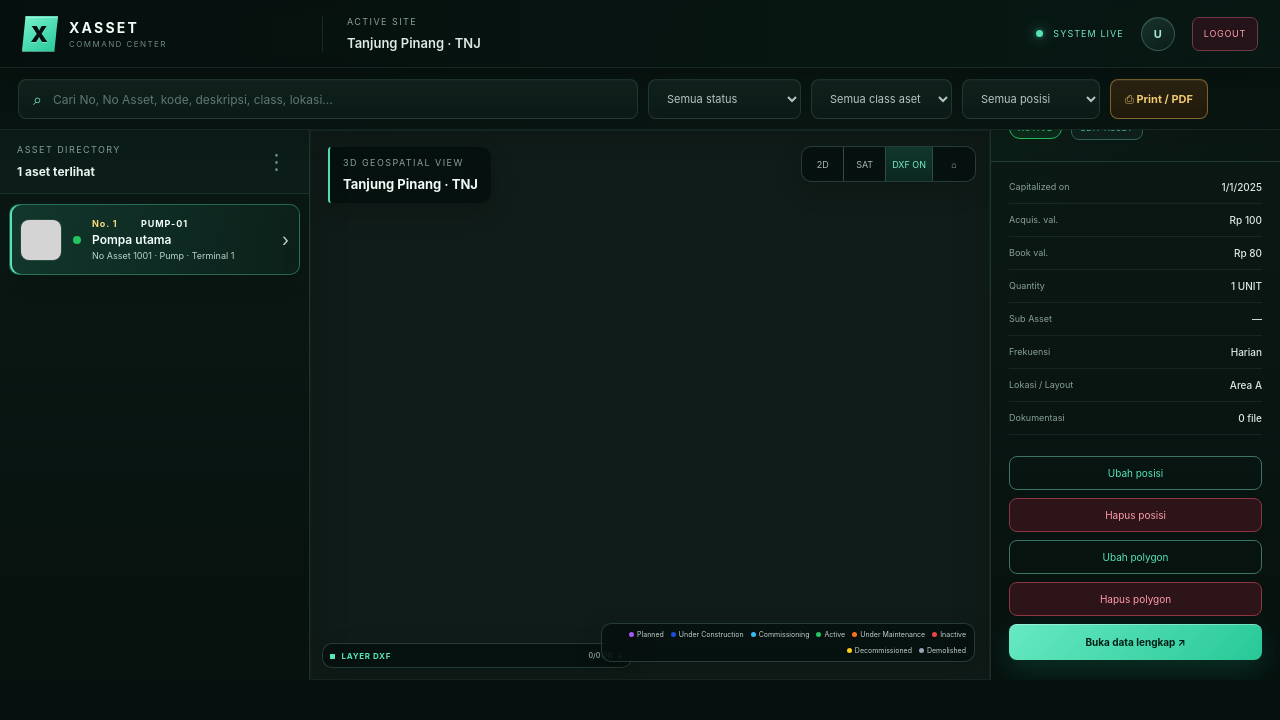
it: AssetDashboard list-to-map synchronization › removes a recorded polygon without removing its position
(page scrolled)
Click the button "Hapus polygon" at (1136, 599), box top-left (1009, 582), bottom-right (1262, 616)
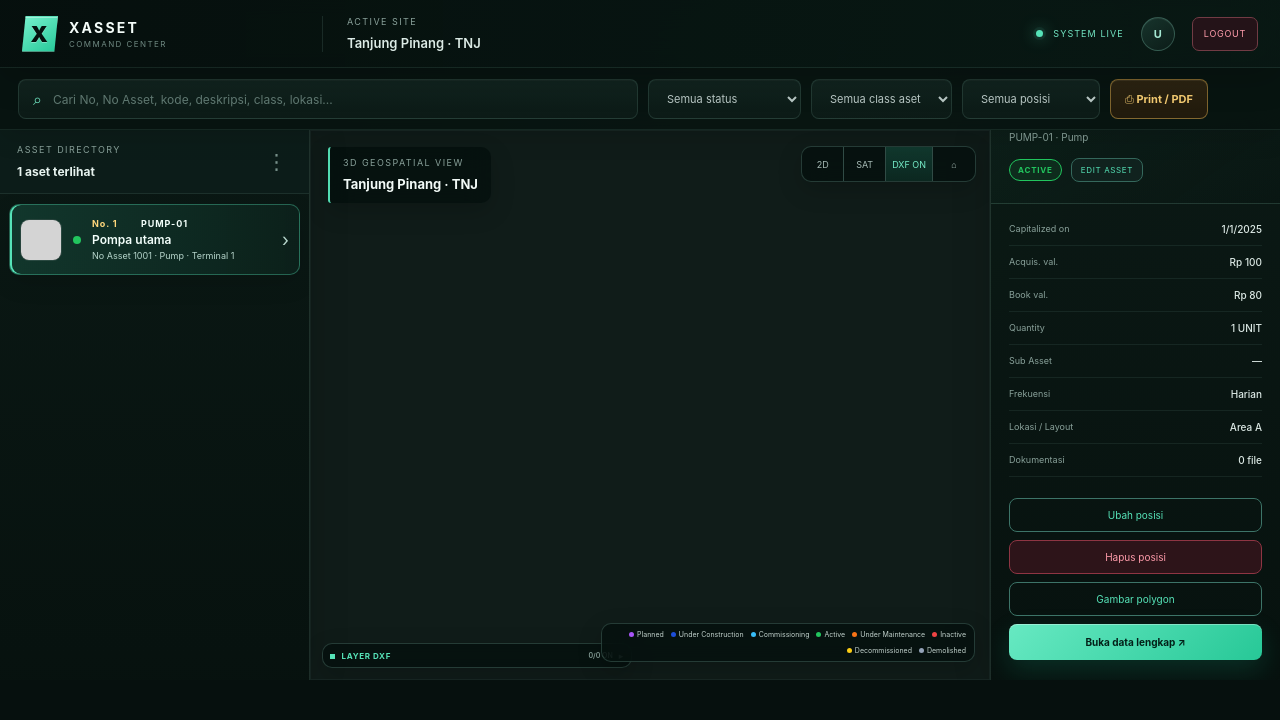
Expected: the button "Hapus posisi" is shown, top-left (1009, 540), bottom-right (1262, 574)
Expected: the button "Hapus polygon" is gone
